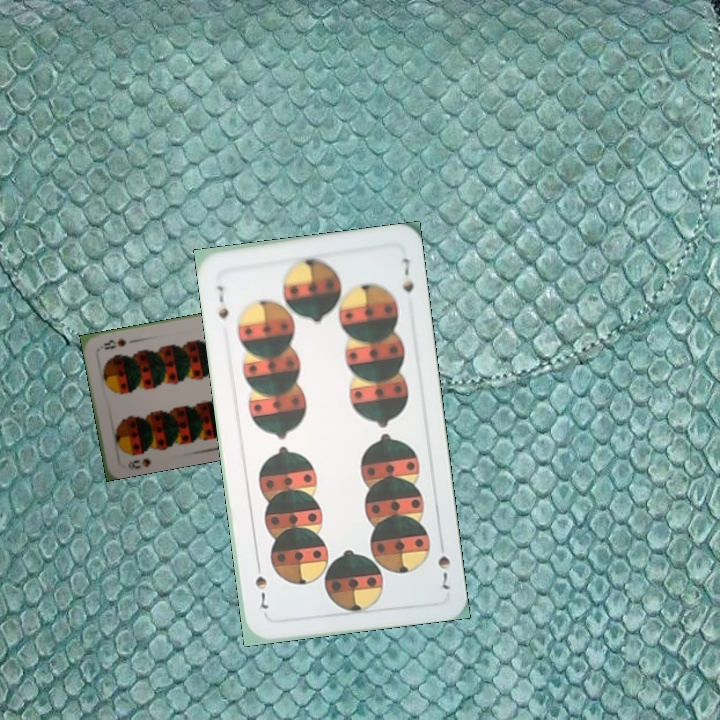S7: (433, 551, 453, 592), (213, 281, 231, 321)
S8: (124, 454, 153, 472)
